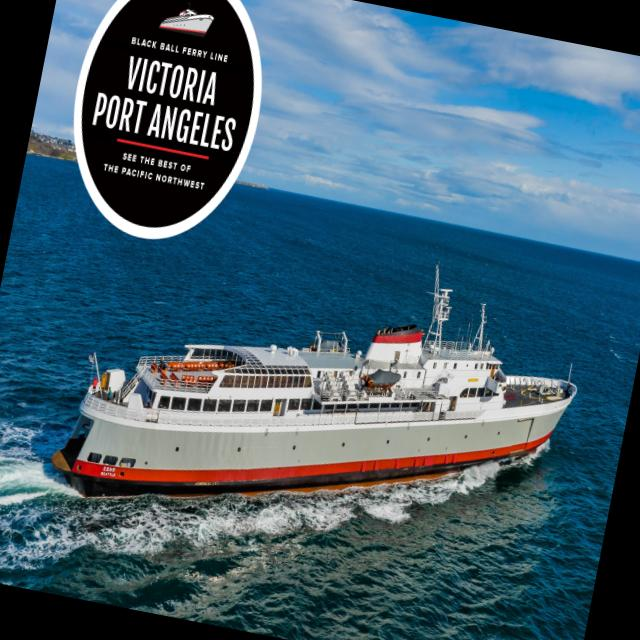boat: (36, 193, 604, 610)
